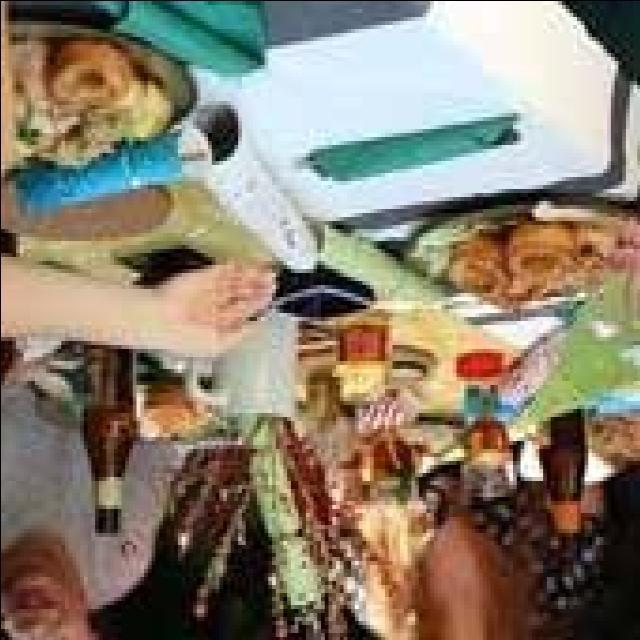rice: (9, 181, 271, 360)
roti: (337, 194, 640, 317), (8, 22, 179, 179), (582, 402, 638, 476)
